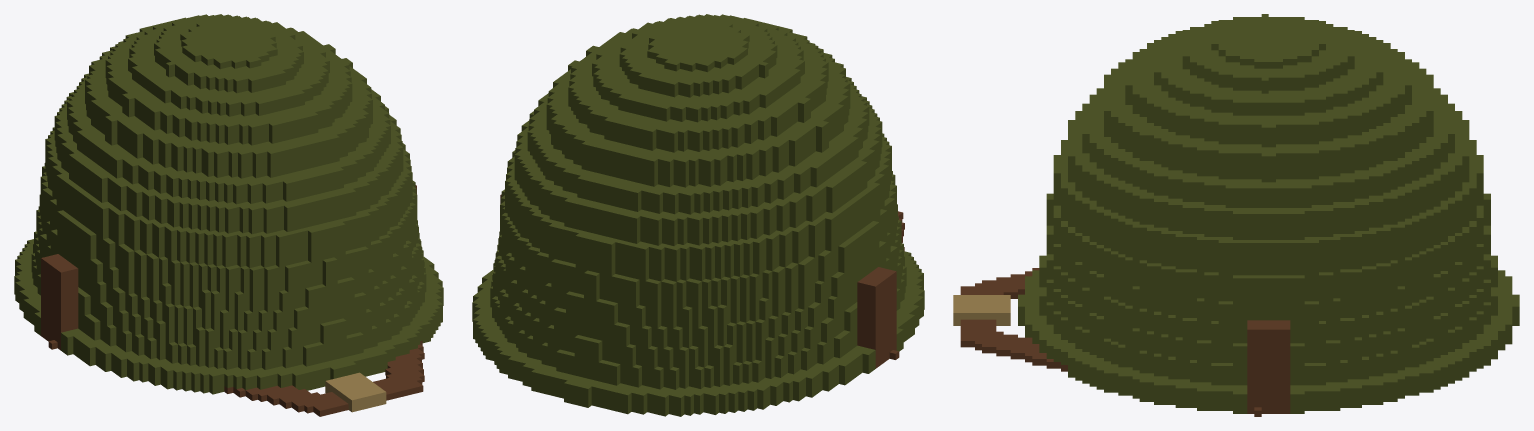
The model's file is helmet_army_outdated.glb.
The picture shows the model from 3 angles, left to right: view 1: azimuth 30°, elevation 25°; view 2: azimuth 150°, elevation 25°; view 3: azimuth 270°, elevation 25°; orthographic projection. The views are drawn at different scales.
Visible parts, largest first — view 1: helmet_army_outdated:compound; view 2: helmet_army_outdated:compound; view 3: helmet_army_outdated:compound.
Boxes of the visible parts, bbox=[...] form: helmet_army_outdated:compound: bbox=[14, 14, 443, 416]; helmet_army_outdated:compound: bbox=[472, 14, 924, 416]; helmet_army_outdated:compound: bbox=[953, 14, 1519, 416].
Size of the model in its own units: 0.256 by 0.172 by 0.316.
